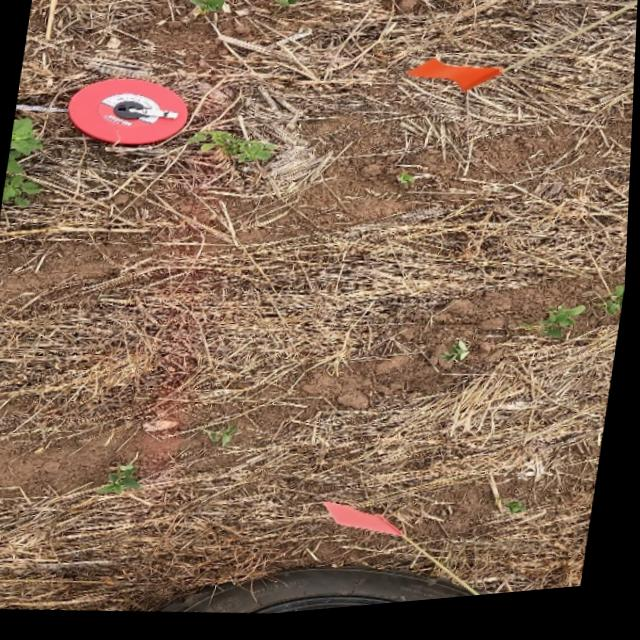caruru_weed: (190, 133, 278, 166), (399, 178, 439, 190)
soy_plant: (4, 118, 43, 205), (524, 316, 588, 348), (103, 464, 145, 495), (208, 428, 241, 450), (606, 296, 627, 326), (444, 348, 473, 369), (191, 0, 230, 15), (276, 0, 312, 10), (510, 509, 530, 523)
